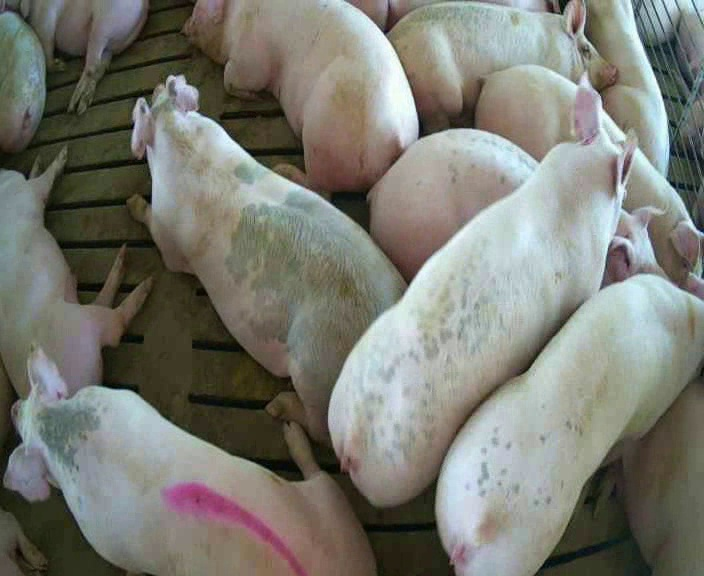pig: (330, 79, 637, 504), (128, 76, 404, 443), (5, 347, 375, 574), (436, 273, 703, 573), (184, 2, 418, 200), (0, 148, 151, 396), (388, 2, 616, 134), (624, 378, 703, 574), (19, 1, 146, 113)
